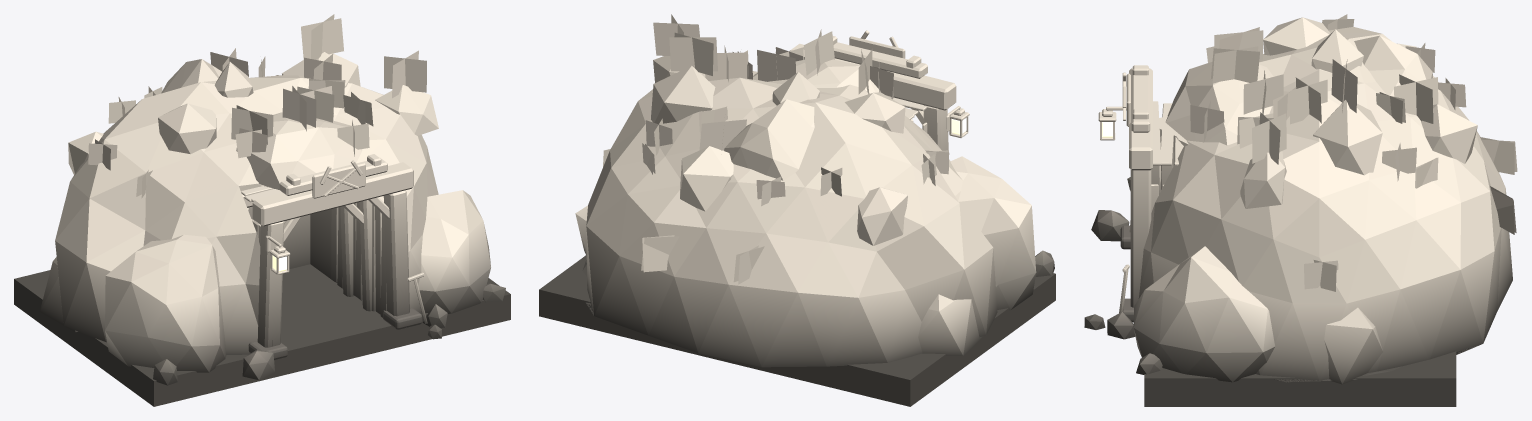
Rendered from SM_VK_Mine_Portal.fbx.
3 views of the same model, side by side, from view 1: azimuth 30°, elevation 25°; view 2: azimuth 150°, elevation 25°; view 3: azimuth 270°, elevation 25° (orthographic). The views are drawn at different scales.
Parts seen in each view (by area): view 1: SM_VK_Mine_Portal.001; view 2: SM_VK_Mine_Portal.001; view 3: SM_VK_Mine_Portal.001.
Boxes of the visible parts, bbox=[...] form: SM_VK_Mine_Portal.001: bbox=[14, 14, 510, 406]; SM_VK_Mine_Portal.001: bbox=[539, 14, 1055, 406]; SM_VK_Mine_Portal.001: bbox=[1084, 14, 1517, 406].
Size of the model in its own units: 8.94 by 5.75 by 7.91.
